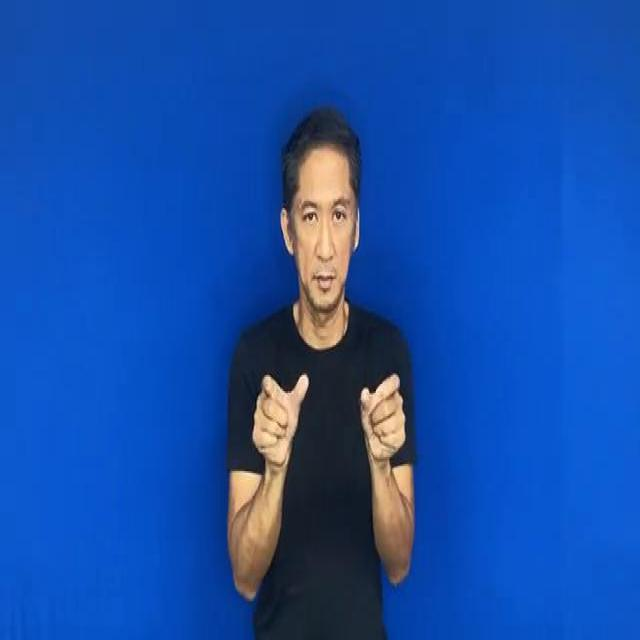crab: (244, 360, 316, 482), (351, 367, 417, 475)
